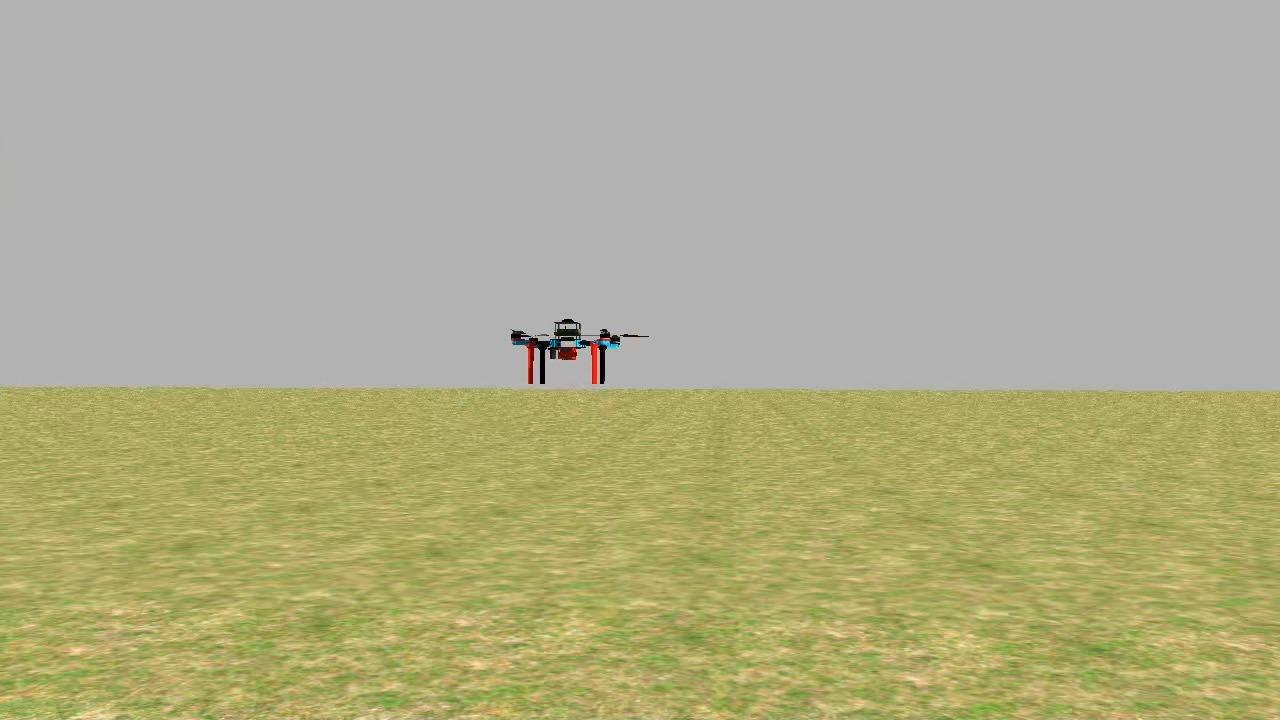UAV: (502, 313, 638, 398)
